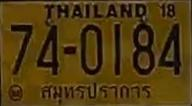0: (80, 24, 102, 74)
1: (114, 24, 120, 74)
4: (158, 22, 180, 74), (36, 24, 58, 74)
7: (10, 24, 32, 74)
8: (132, 22, 154, 74)
SPK: (36, 78, 152, 104)
